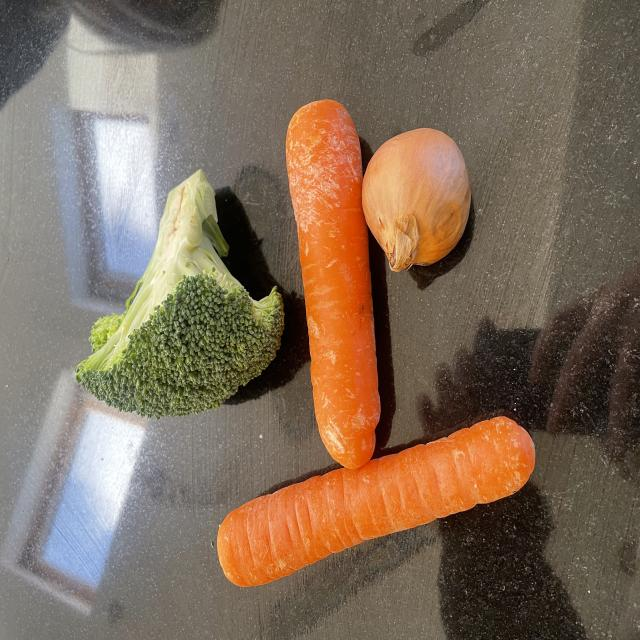Broccoli: (74, 167, 285, 421)
Carrot: (216, 414, 537, 590), (285, 98, 382, 470)
Onion: (359, 126, 473, 273)
